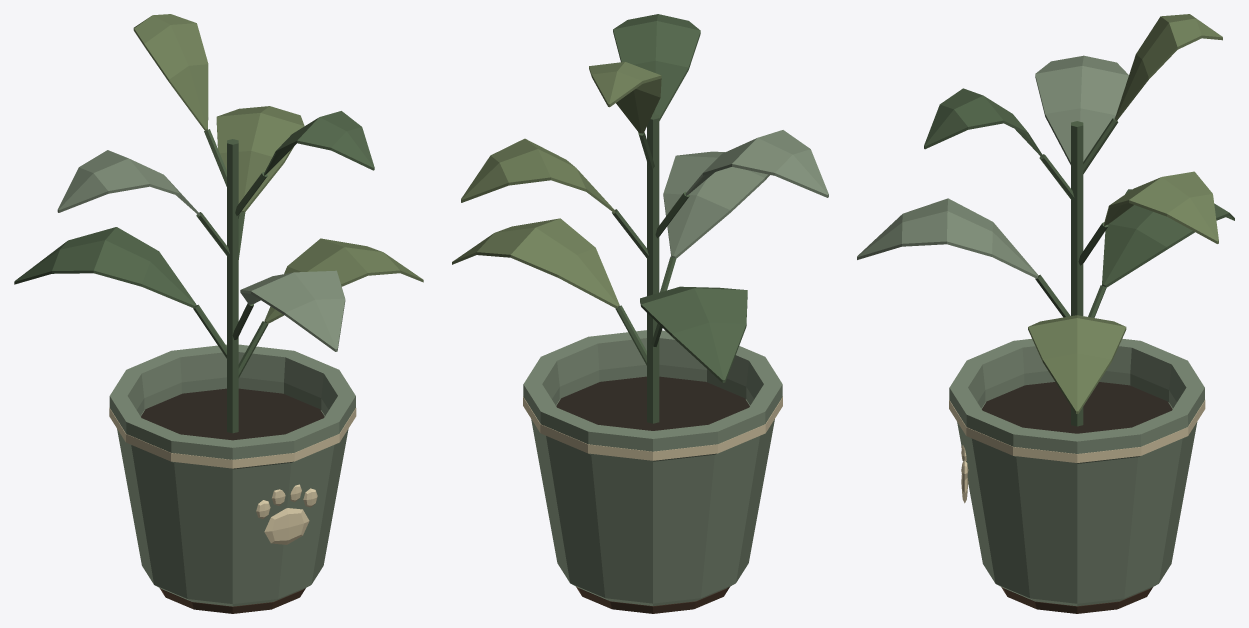
Rendered from Museum_Planter.fbx.
3 views of the same model, side by side, from view 1: azimuth 30°, elevation 25°; view 2: azimuth 150°, elevation 25°; view 3: azimuth 270°, elevation 25° (orthographic). The views are drawn at different scales.
Parts seen in each view (by area): view 1: Museum_Planter; view 2: Museum_Planter; view 3: Museum_Planter.
Boxes of the visible parts, x1,y1,x2,y2 form: Museum_Planter: [14, 14, 423, 613]; Museum_Planter: [452, 14, 828, 613]; Museum_Planter: [857, 14, 1234, 613].
Size of the model in its own units: 110 by 154 by 96.11.
1 material, 1 textured.
